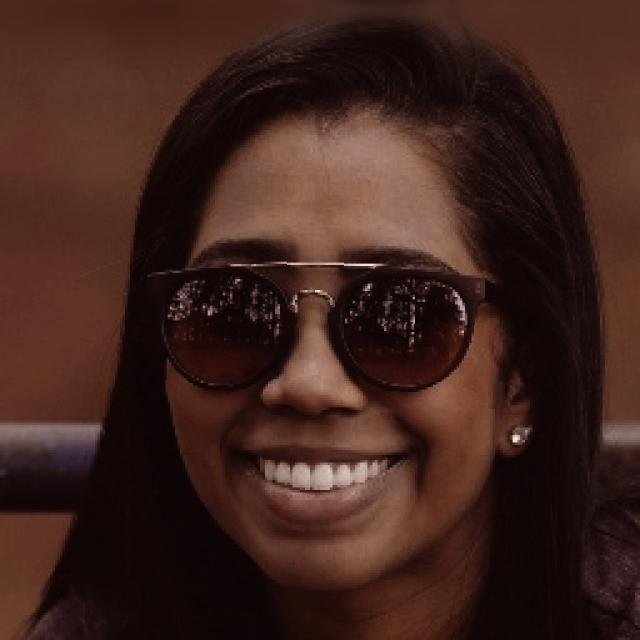glasses: (130, 238, 502, 408)
